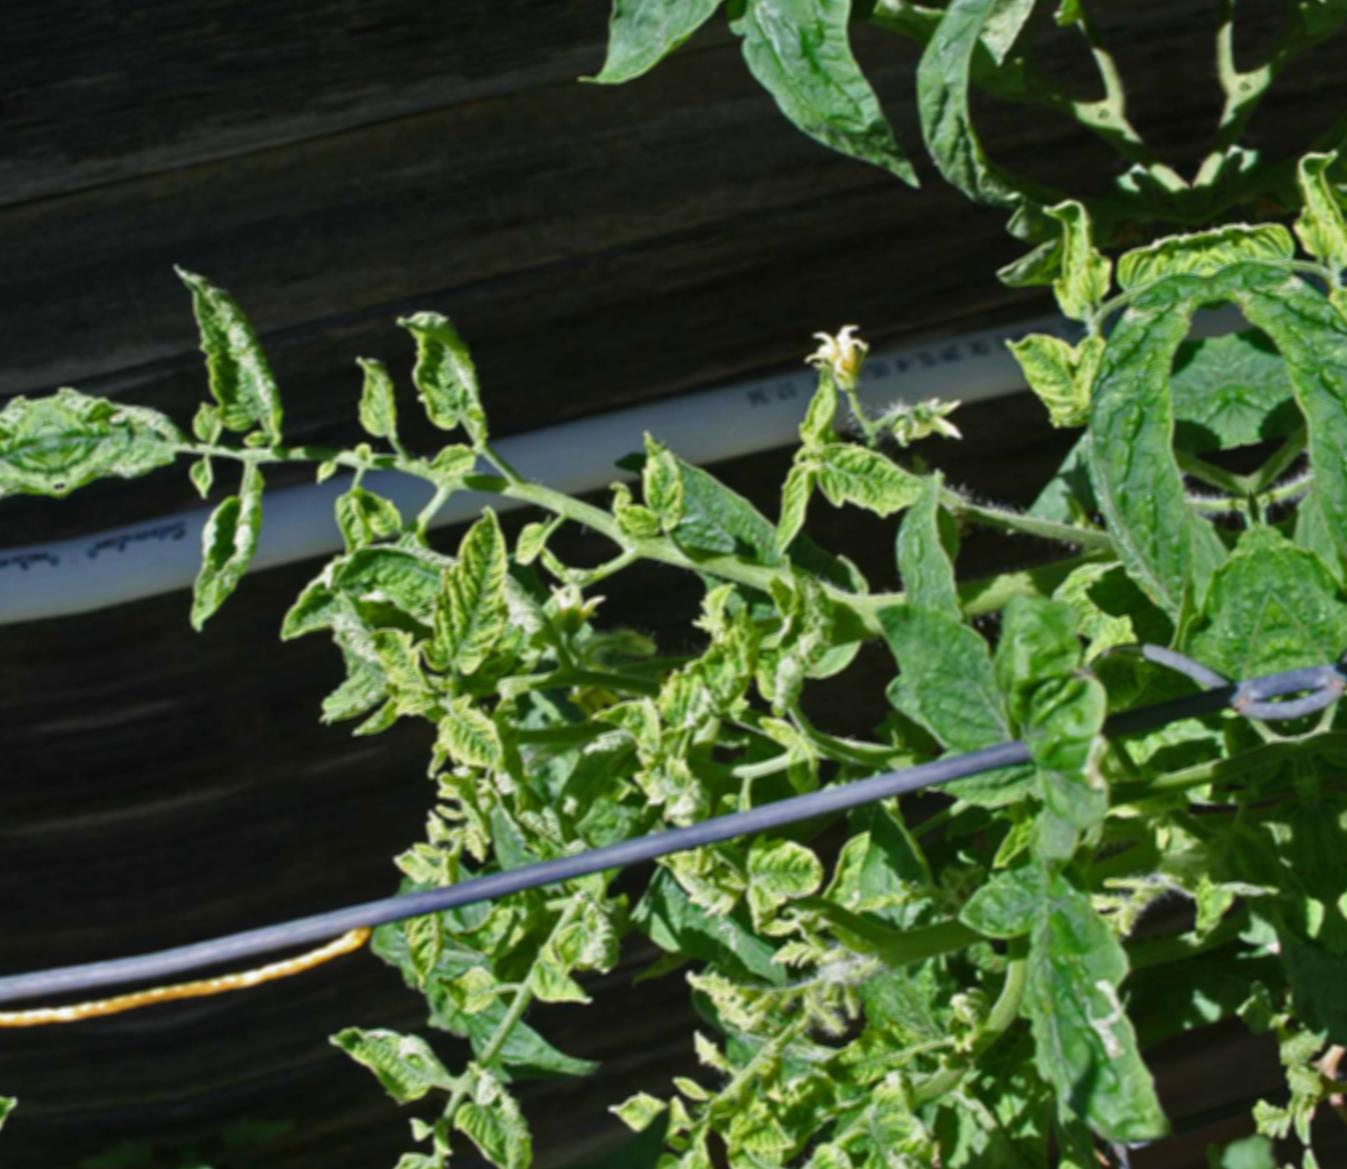Tomato leaf yellow virus: (959, 835, 1185, 1169), (857, 566, 1043, 823), (156, 221, 309, 471), (582, 608, 780, 795), (380, 263, 515, 476), (402, 507, 543, 700), (782, 399, 937, 553), (41, 371, 190, 507), (318, 998, 454, 1117), (597, 403, 698, 547), (415, 674, 525, 798), (348, 604, 447, 735), (728, 824, 840, 930), (834, 1061, 941, 1169), (331, 333, 411, 455), (449, 1077, 546, 1169), (703, 1078, 799, 1169), (576, 1141, 716, 1169), (795, 1123, 870, 1169)
